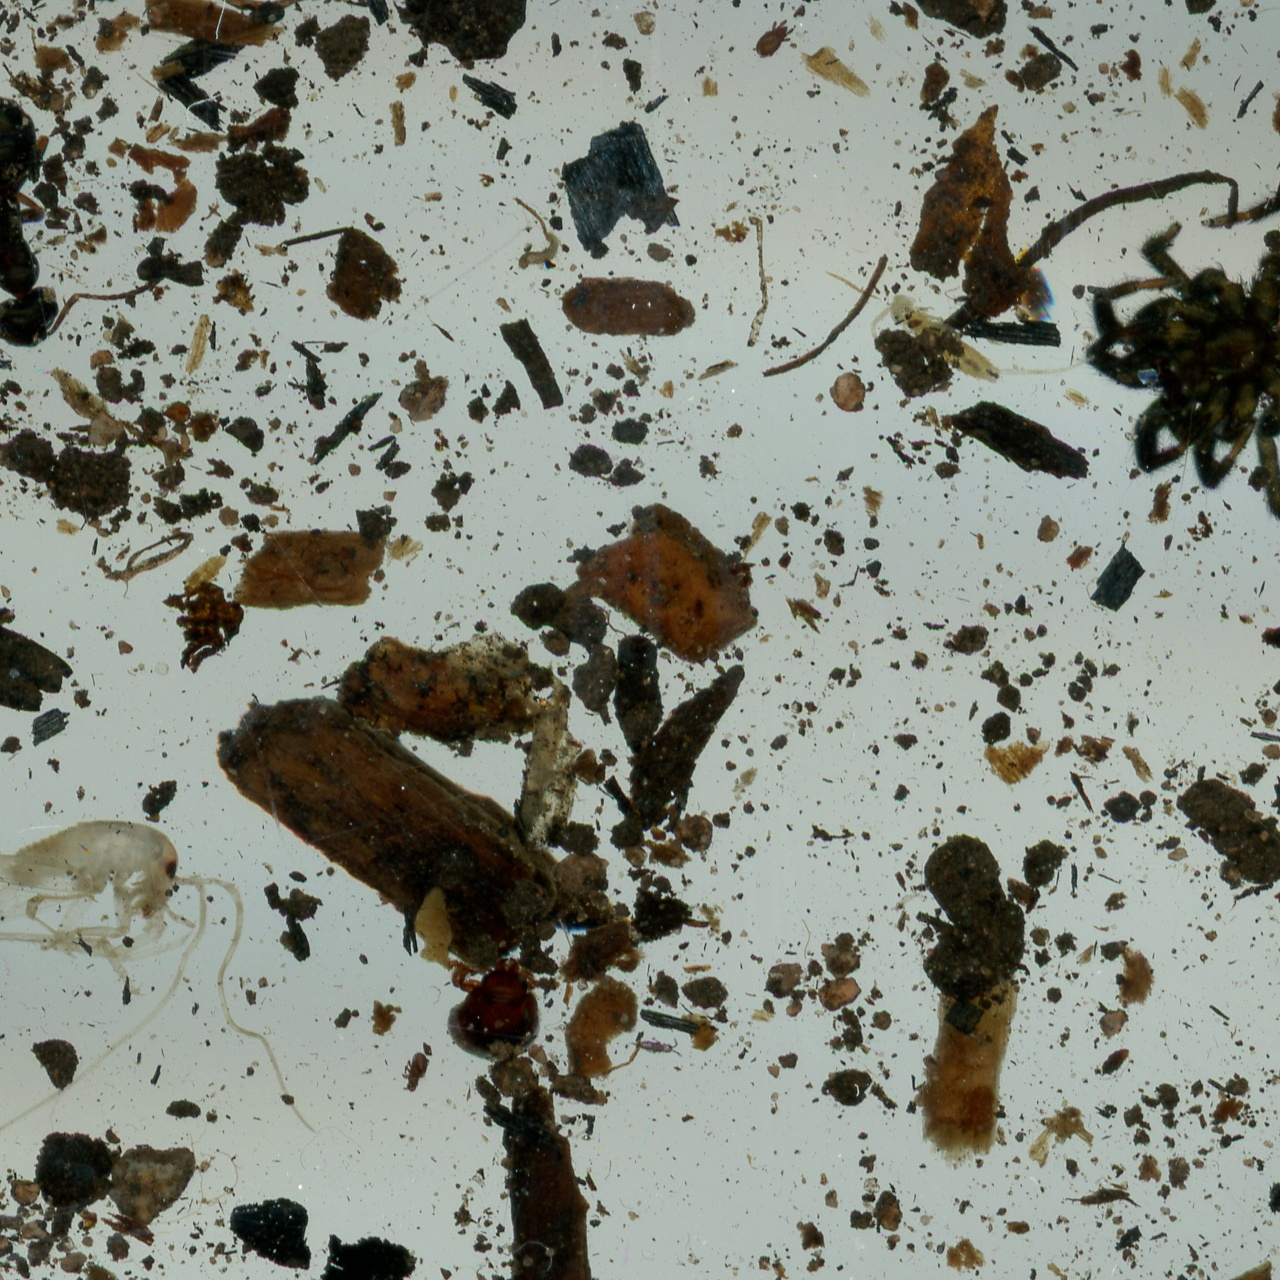arthropod: (0, 804, 332, 1152), (1034, 136, 1280, 597), (867, 290, 1096, 395), (627, 1035, 685, 1058)
